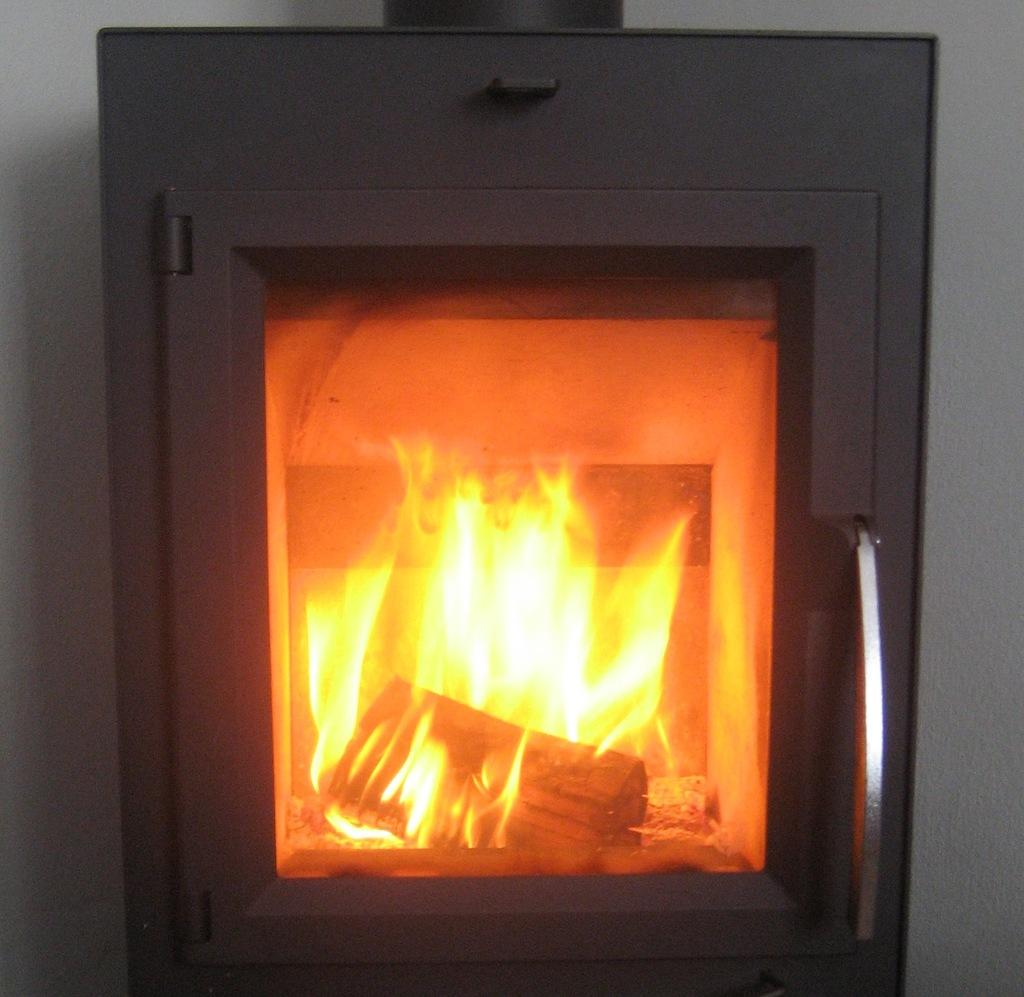Fire: (93, 1, 943, 997)
